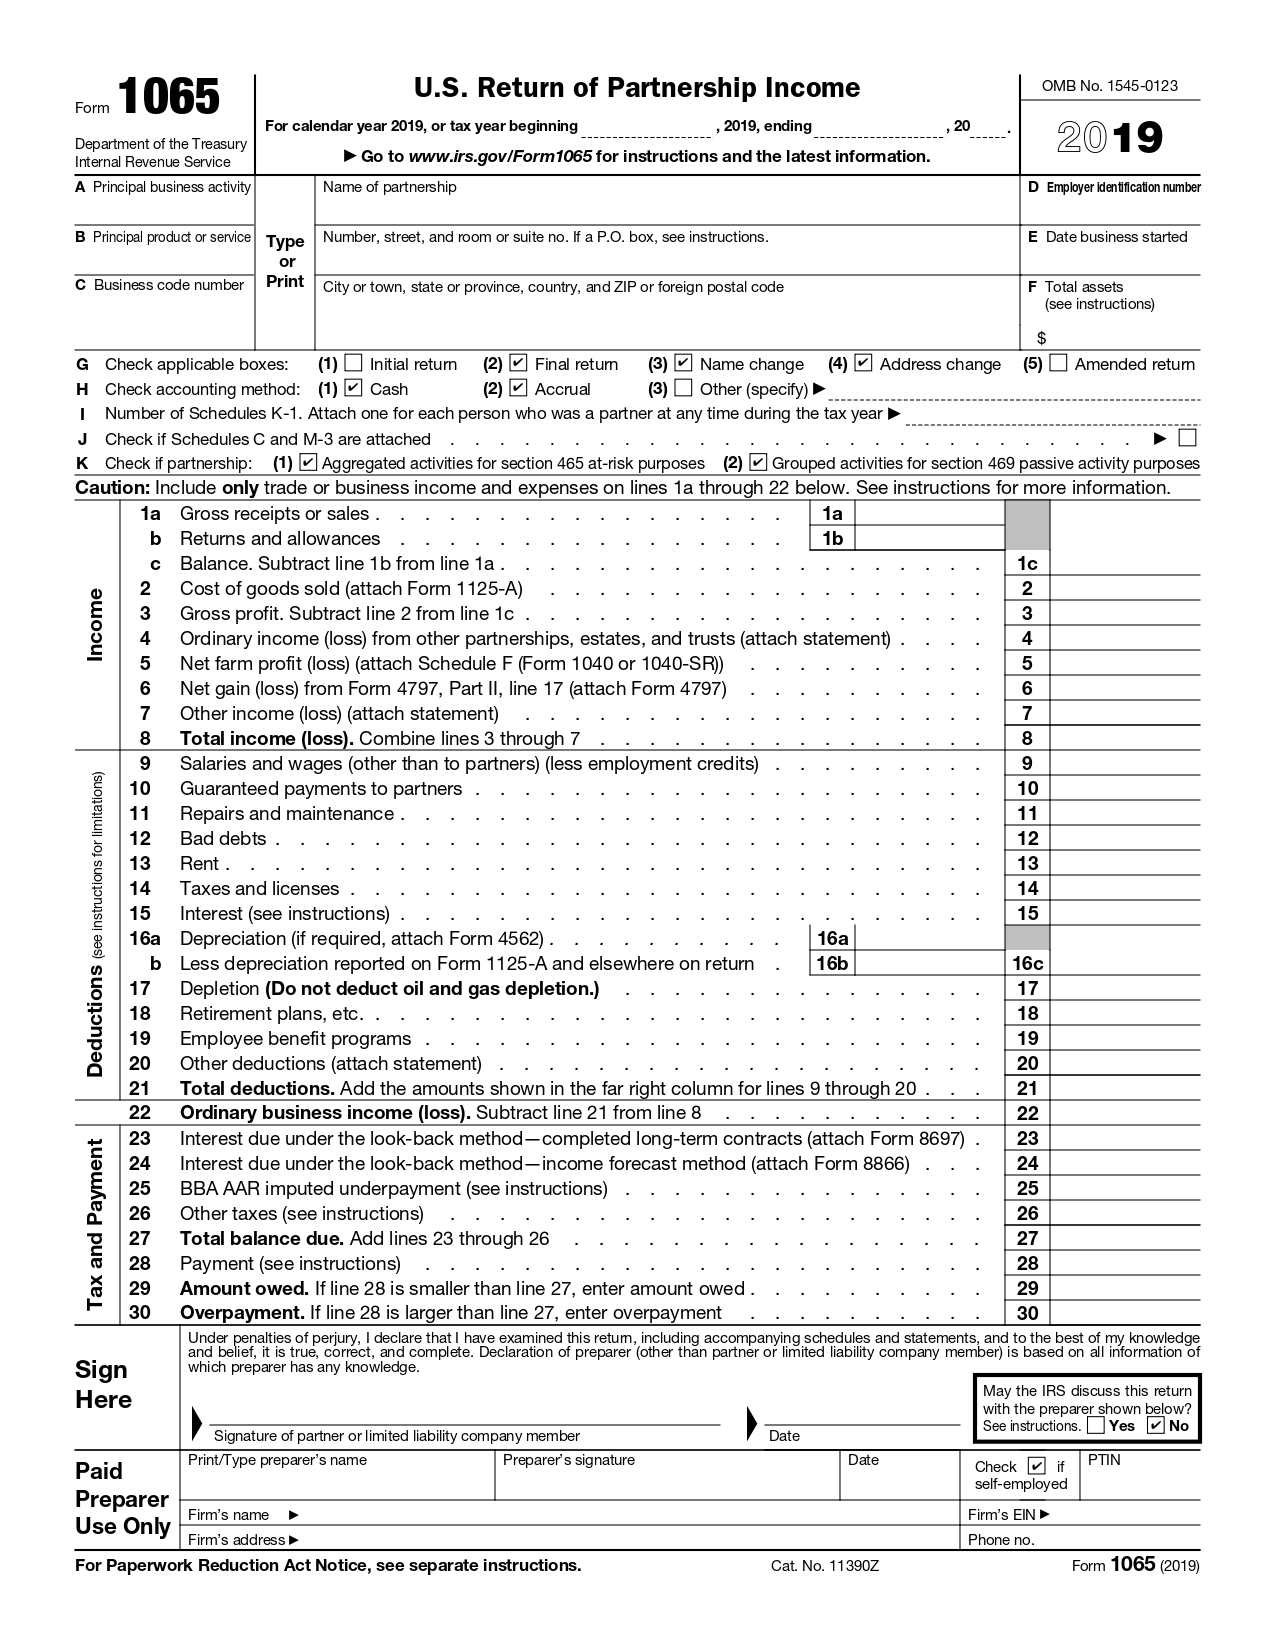checkbox: (299, 454, 321, 475), (1179, 430, 1200, 453), (1049, 356, 1071, 376), (1087, 1418, 1108, 1441), (510, 380, 530, 402), (346, 356, 366, 378), (856, 356, 876, 378), (510, 382, 530, 403), (508, 358, 530, 376), (1050, 356, 1070, 376), (346, 382, 366, 402), (676, 356, 696, 376), (1029, 1460, 1049, 1480), (346, 356, 366, 375), (674, 356, 694, 375), (854, 358, 875, 376), (512, 358, 530, 378), (346, 380, 364, 400), (674, 380, 692, 400), (1148, 1420, 1168, 1438), (676, 382, 695, 400), (750, 455, 767, 475)
